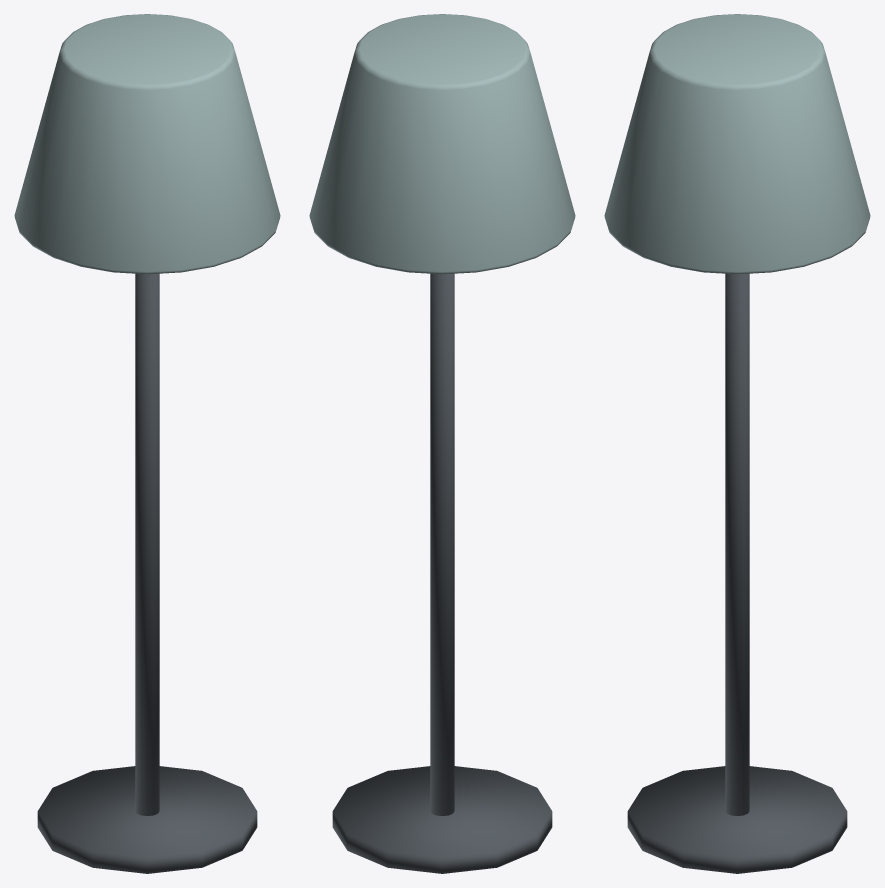
The model's file is atelier-garden-path-light.glb.
3 renders of one model, left to right at view 1: azimuth 30°, elevation 25°; view 2: azimuth 150°, elevation 25°; view 3: azimuth 270°, elevation 25°, orthographic.
Visible parts, largest first — view 1: fabric.068, metal.088; view 2: fabric.068, metal.088; view 3: fabric.068, metal.088.
Part boxes in pixels (bbox=[...]): fabric.068: bbox=[14, 14, 280, 274]; metal.088: bbox=[37, 273, 257, 873]; fabric.068: bbox=[309, 14, 575, 274]; metal.088: bbox=[332, 273, 552, 873]; fabric.068: bbox=[604, 14, 870, 274]; metal.088: bbox=[627, 273, 847, 873].
Size of the model in its own units: 0.4366 by 1.41 by 0.4366.
